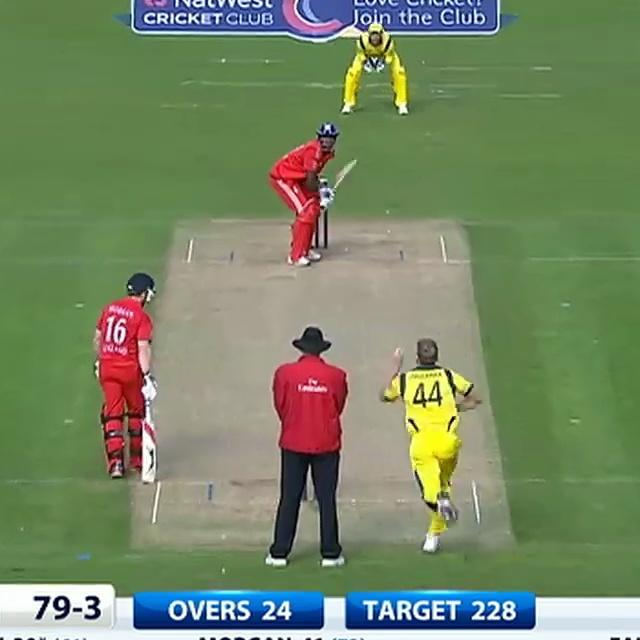umpire: (256, 318, 362, 570)
